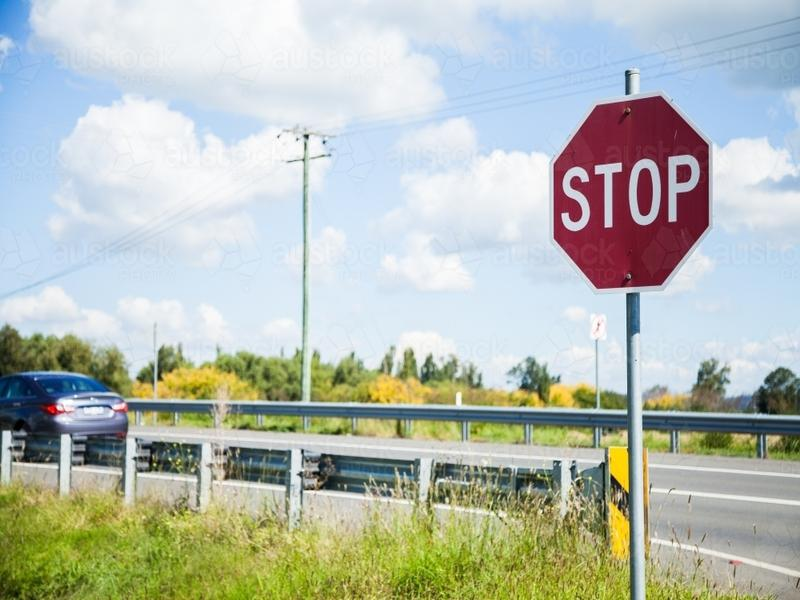stop: (550, 89, 716, 292)
